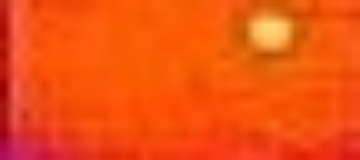Hotspot: (241, 9, 301, 53)
